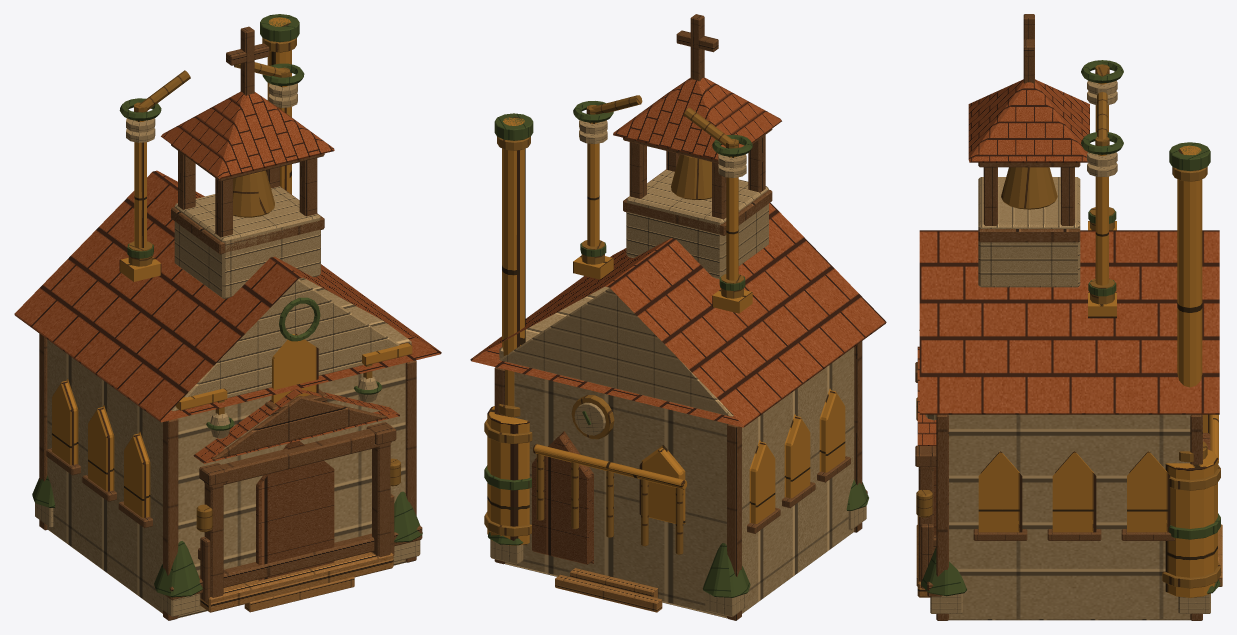
File: chapel.e3.glb
The picture shows the model from 3 angles, left to right: view 1: azimuth 30°, elevation 25°; view 2: azimuth 150°, elevation 25°; view 3: azimuth 270°, elevation 25°; orthographic projection. The views are drawn at different scales.
Visible parts, largest first — view 1: ChapelE3; view 2: ChapelE3; view 3: ChapelE3.
Part boxes in pixels (bbox=[...]): ChapelE3: bbox=[14, 14, 441, 620]; ChapelE3: bbox=[470, 14, 886, 620]; ChapelE3: bbox=[915, 14, 1222, 620].
Size of the model in its own units: 3.46 by 6.25 by 3.19.
Materials: 1 (1 with a texture image).
